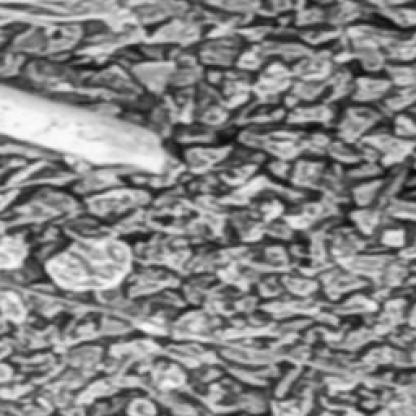PVC: (0, 82, 166, 172)
